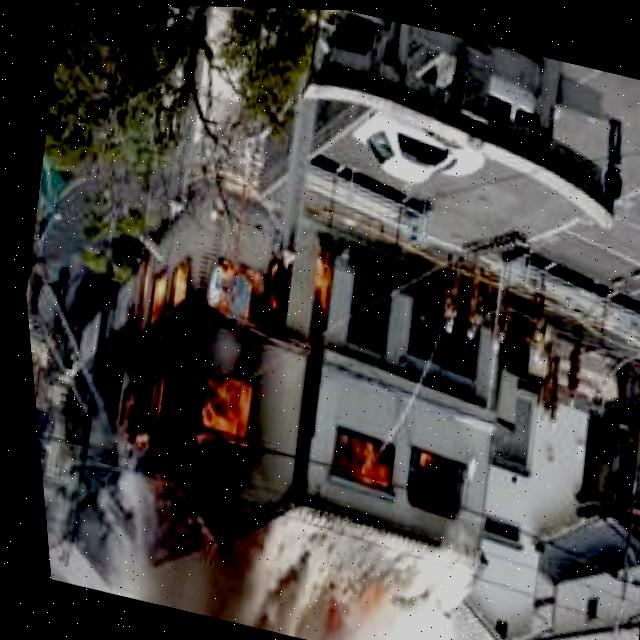Fire: (54, 168, 364, 506), (312, 417, 446, 506)
Smoke: (104, 475, 476, 640)
